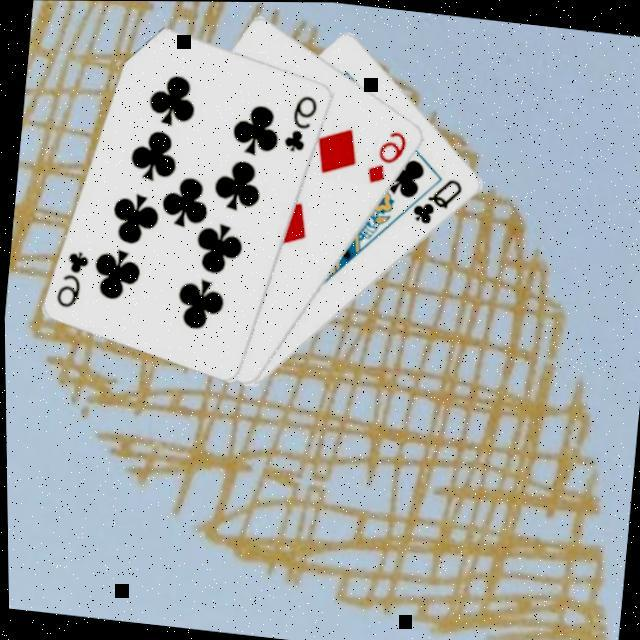6D: (360, 123, 410, 187)
9C: (48, 243, 90, 310), (278, 88, 320, 154)
QC: (404, 170, 464, 228)
